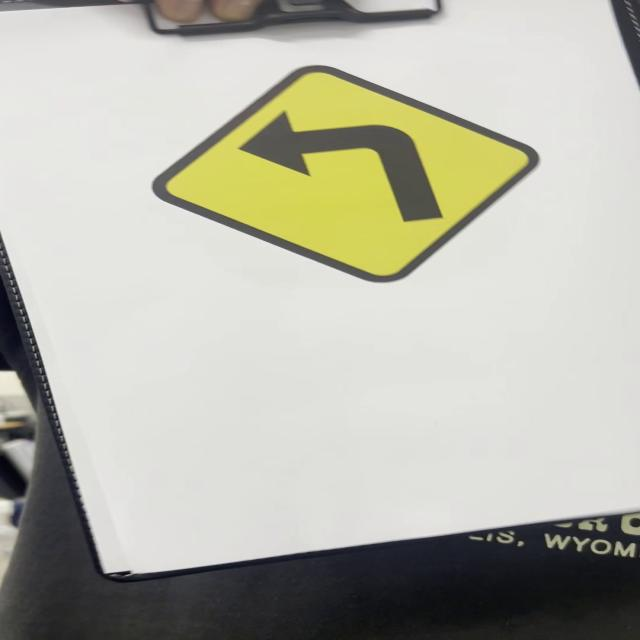left: (142, 66, 546, 271)
